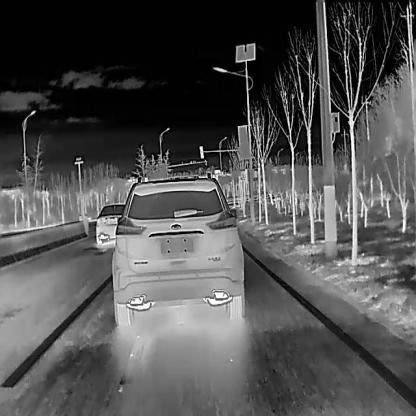car: (111, 171, 245, 326), (94, 203, 126, 250)
